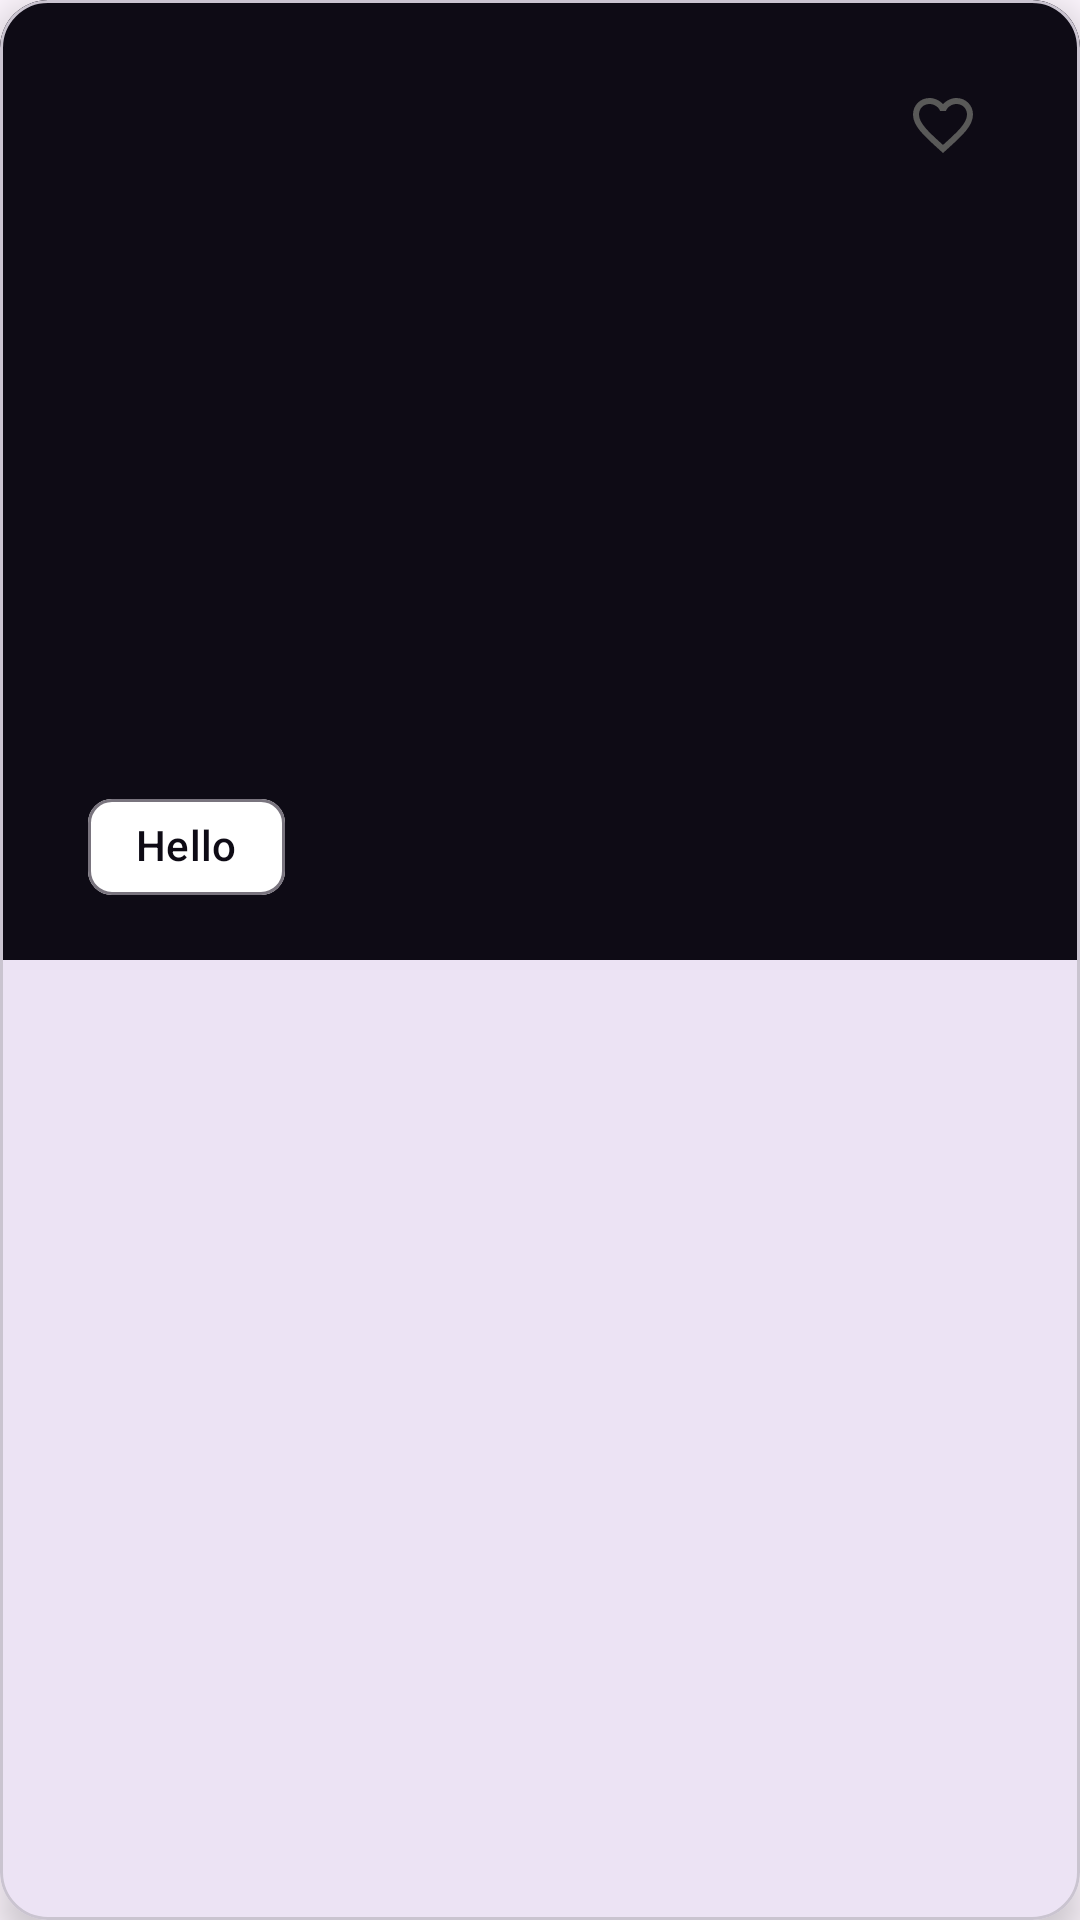

Where to tap for icons on this 1080*1920 app screen, as (x,y):
heart empty: (943,125)
